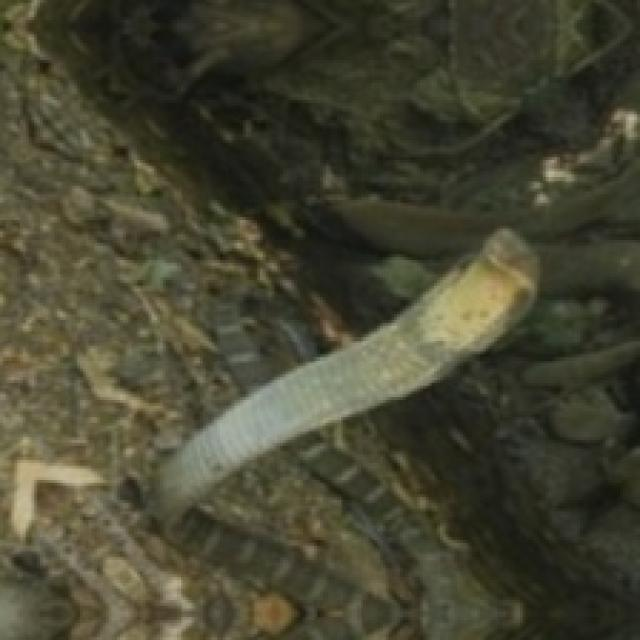king cobra: (157, 229, 537, 523)
